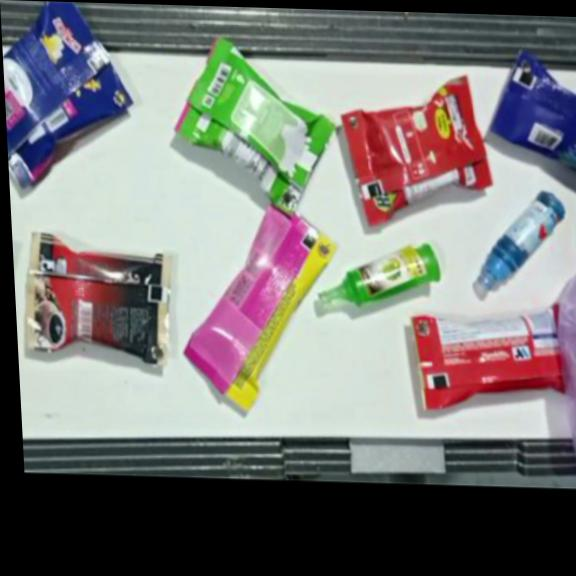Plastik: (176, 198, 347, 417), (168, 38, 341, 218), (1, 3, 138, 195), (334, 74, 494, 237), (19, 231, 177, 367), (410, 299, 568, 415), (471, 173, 569, 294), (484, 49, 576, 171), (316, 240, 443, 310), (557, 259, 576, 489)
